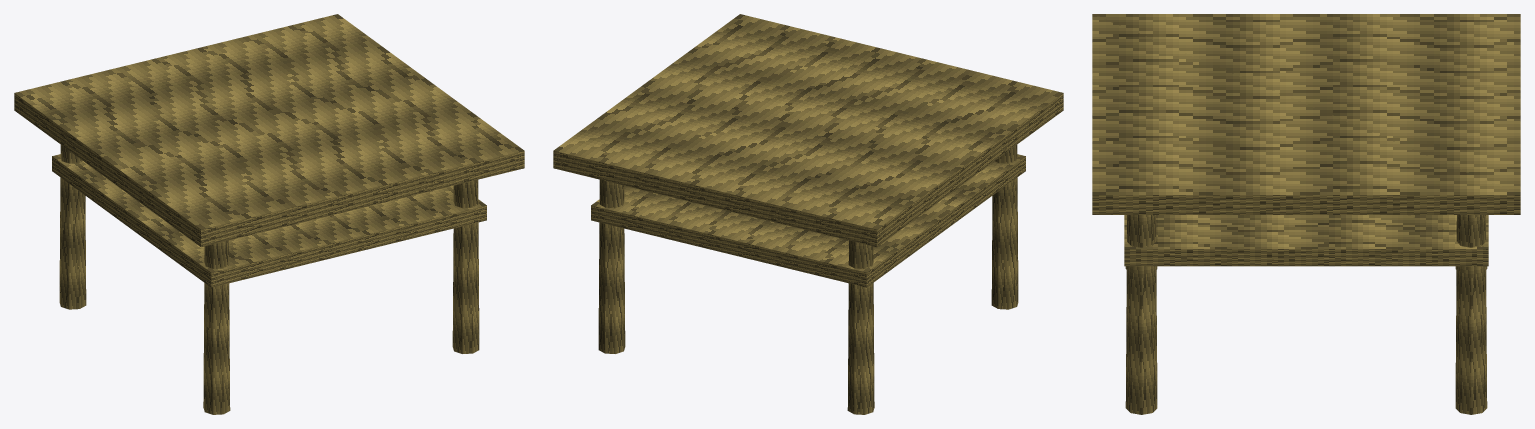
File: table.glb
3 views of the same model, side by side, from view 1: azimuth 30°, elevation 25°; view 2: azimuth 150°, elevation 25°; view 3: azimuth 270°, elevation 25° (orthographic). The views are drawn at different scales.
Visible parts, largest first — view 1: table; view 2: table; view 3: table.
Part boxes in pixels (<box>): table: <box>14,14,524,414</box>; table: <box>553,14,1063,414</box>; table: <box>1092,14,1520,414</box>.
Size of the model in its own units: 1.35 by 0.815 by 1.35.
1 material, 1 textured.
